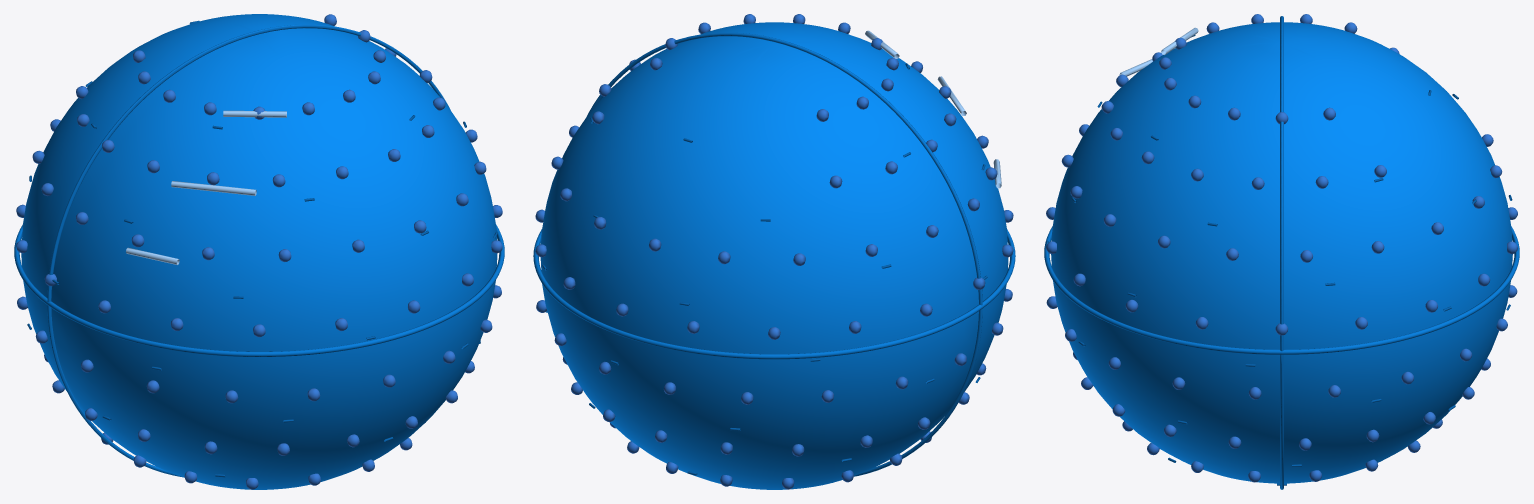
File: softball_blau_3D_v2.glb
The picture shows the model from 3 angles, left to right: view 1: azimuth 30°, elevation 25°; view 2: azimuth 150°, elevation 25°; view 3: azimuth 270°, elevation 25°; orthographic projection. The views are drawn at different scales.
Visible parts, largest first — view 1: softball_blau_3D_v2__web_blue_smooth_foam_softball_body, softball_blau_3D_v2__web_blue_subtle_pebbled_softball_surfac, softball_blau_3D_v2__web_v2_extra_blue_softball_molded_equat, softball_blau_3D_v2__web_blue_glossy_softball_highlight_patc, softball_blau_3D_v2__web_v2_extra_blue_softball_pore_shadows; view 2: softball_blau_3D_v2__web_blue_smooth_foam_softball_body, softball_blau_3D_v2__web_blue_subtle_pebbled_softball_surfac, softball_blau_3D_v2__web_v2_extra_blue_softball_molded_equat, softball_blau_3D_v2__web_blue_glossy_softball_highlight_patc; view 3: softball_blau_3D_v2__web_blue_smooth_foam_softball_body, softball_blau_3D_v2__web_blue_subtle_pebbled_softball_surfac, softball_blau_3D_v2__web_v2_extra_blue_softball_molded_equat, softball_blau_3D_v2__web_v2_extra_blue_softball_pore_shadows.
Part boxes in pixels (bbox=[...]): softball_blau_3D_v2__web_blue_smooth_foam_softball_body: bbox=[21, 14, 497, 489]; softball_blau_3D_v2__web_blue_subtle_pebbled_softball_surfac: bbox=[16, 14, 502, 489]; softball_blau_3D_v2__web_v2_extra_blue_softball_molded_equat: bbox=[14, 24, 504, 477]; softball_blau_3D_v2__web_blue_glossy_softball_highlight_patc: bbox=[126, 110, 286, 264]; softball_blau_3D_v2__web_v2_extra_blue_softball_pore_shadows: bbox=[27, 20, 497, 477]; softball_blau_3D_v2__web_blue_smooth_foam_softball_body: bbox=[540, 22, 1008, 489]; softball_blau_3D_v2__web_blue_subtle_pebbled_softball_surfac: bbox=[535, 14, 1013, 489]; softball_blau_3D_v2__web_v2_extra_blue_softball_molded_equat: bbox=[533, 32, 1015, 476]; softball_blau_3D_v2__web_blue_glossy_softball_highlight_patc: bbox=[865, 30, 1001, 188]; softball_blau_3D_v2__web_blue_smooth_foam_softball_body: bbox=[1051, 22, 1512, 483]; softball_blau_3D_v2__web_blue_subtle_pebbled_softball_surfac: bbox=[1046, 14, 1517, 482]; softball_blau_3D_v2__web_v2_extra_blue_softball_molded_equat: bbox=[1044, 16, 1519, 489]; softball_blau_3D_v2__web_v2_extra_blue_softball_pore_shadows: bbox=[1045, 35, 1512, 485].
Size of the model in its own units: 0.3424 by 0.3388 by 0.3398.
